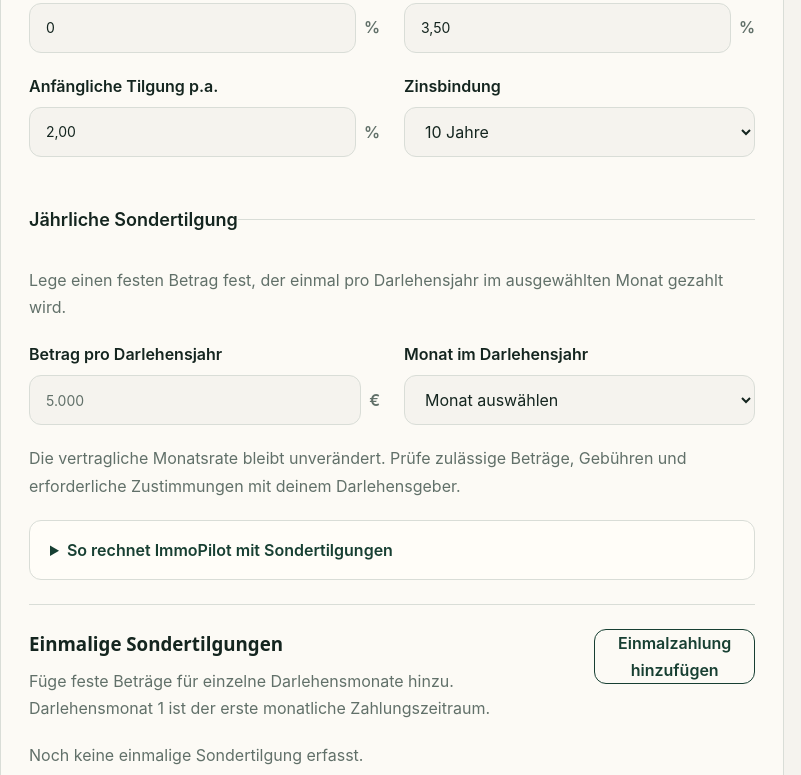
Test: FinancingPage › shows accessible errors for negative amounts and invalid active months
(page scrolled)
Type "-100" into the field labelled "Betrag pro Darlehensjahr €" at (195, 400), box [29,375,361,425]
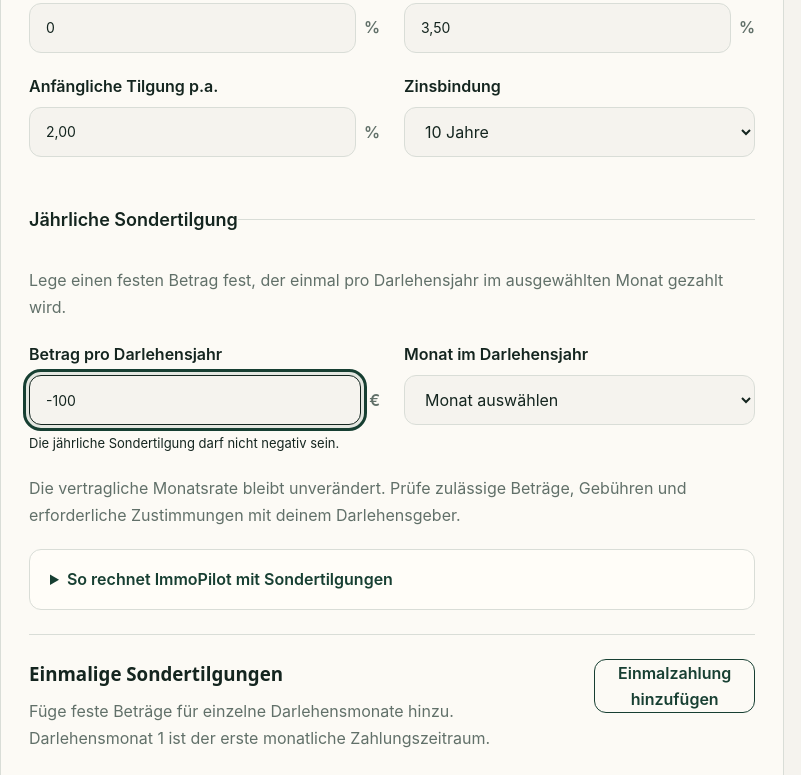
Now the message shows "darf nicht negativ sein", box [29,435,339,451]
Replace the text in the field labelled "Betrag pro Darlehensjahr" with "5000" at (195, 400), box [29,375,361,425]
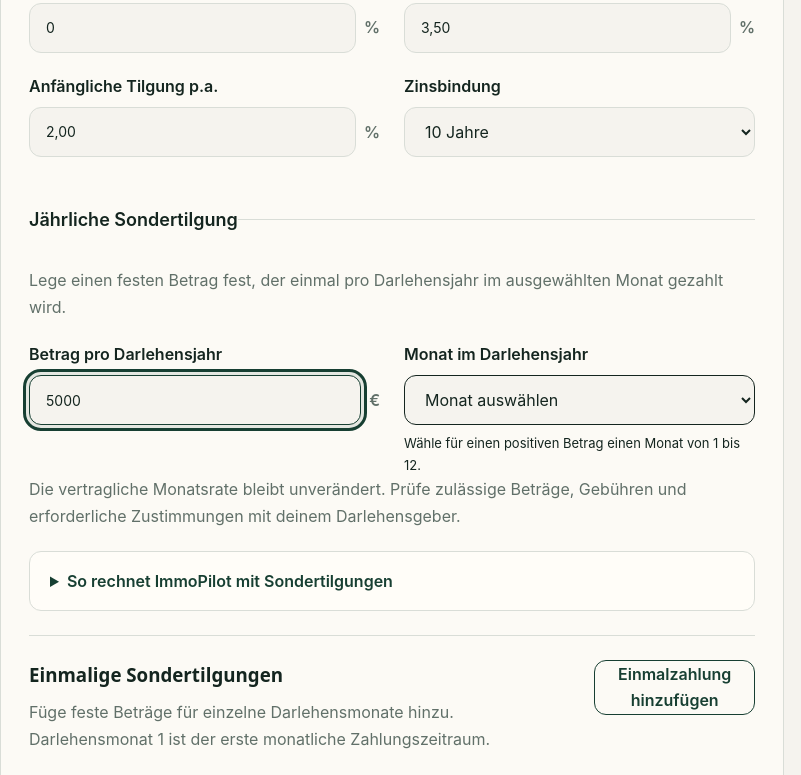
Now the message shows "Monat von 1 bis 12", box [404,435,740,473]
